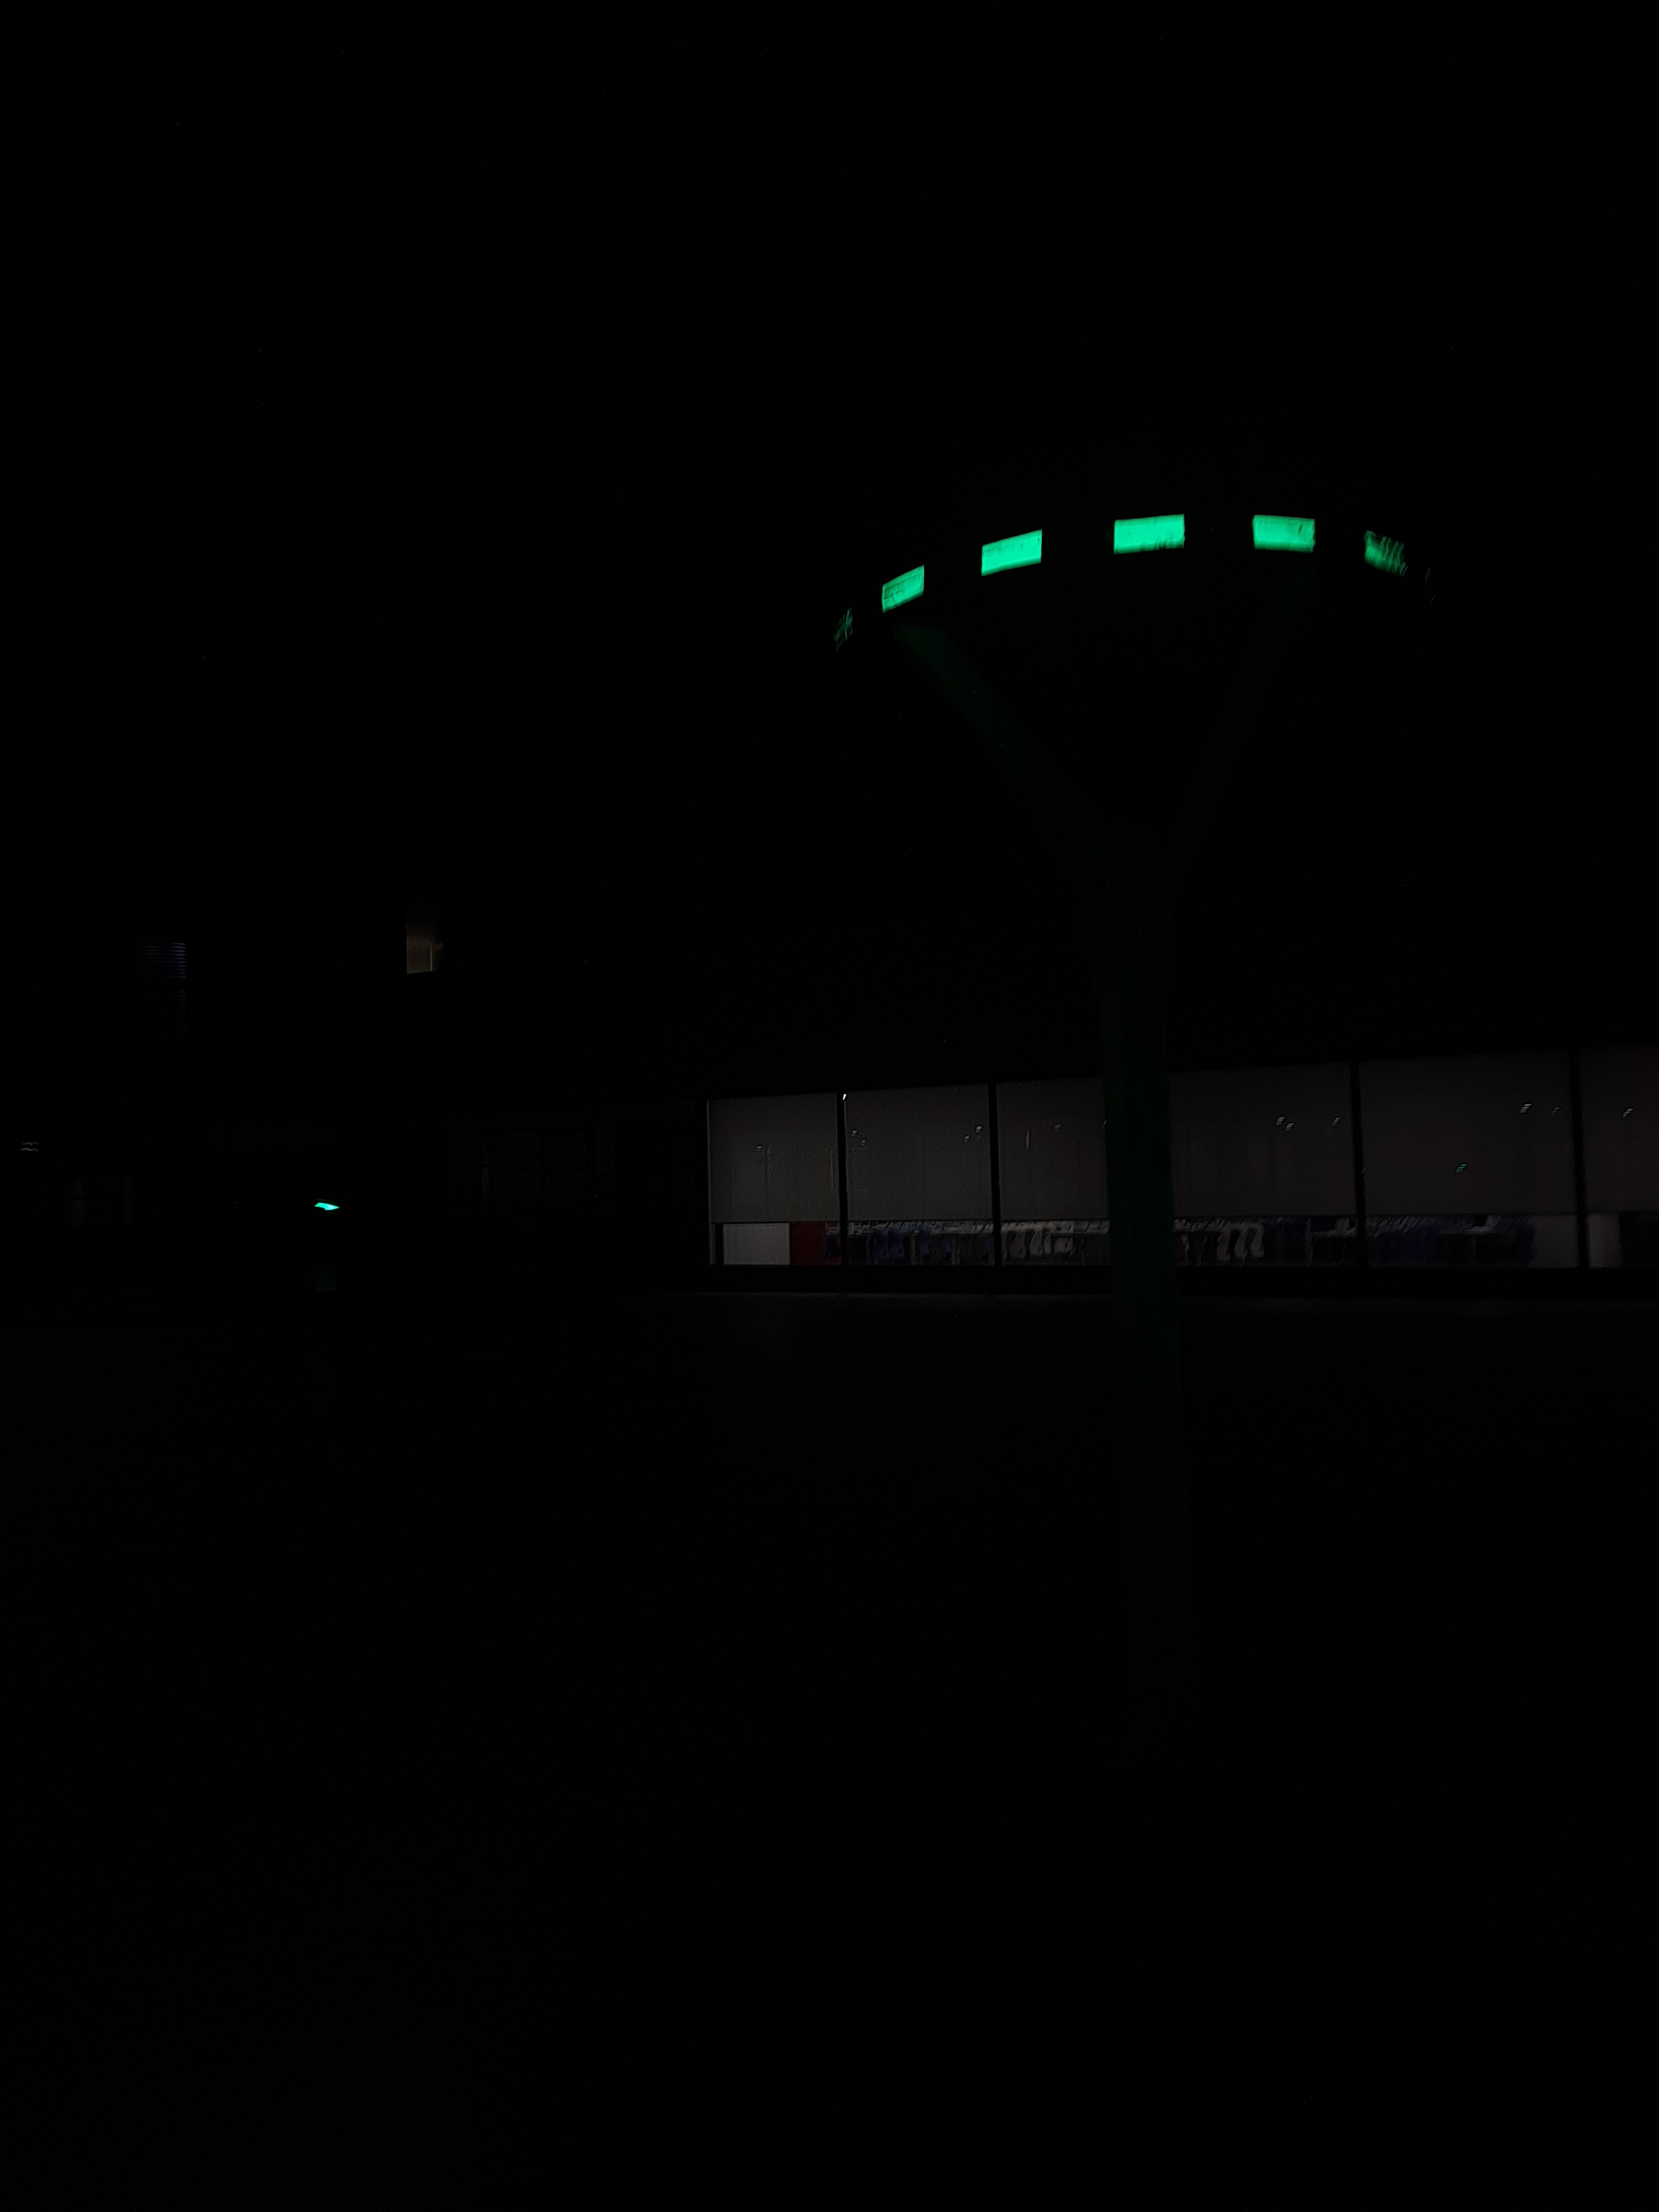hoop: (868, 495, 1419, 613)
